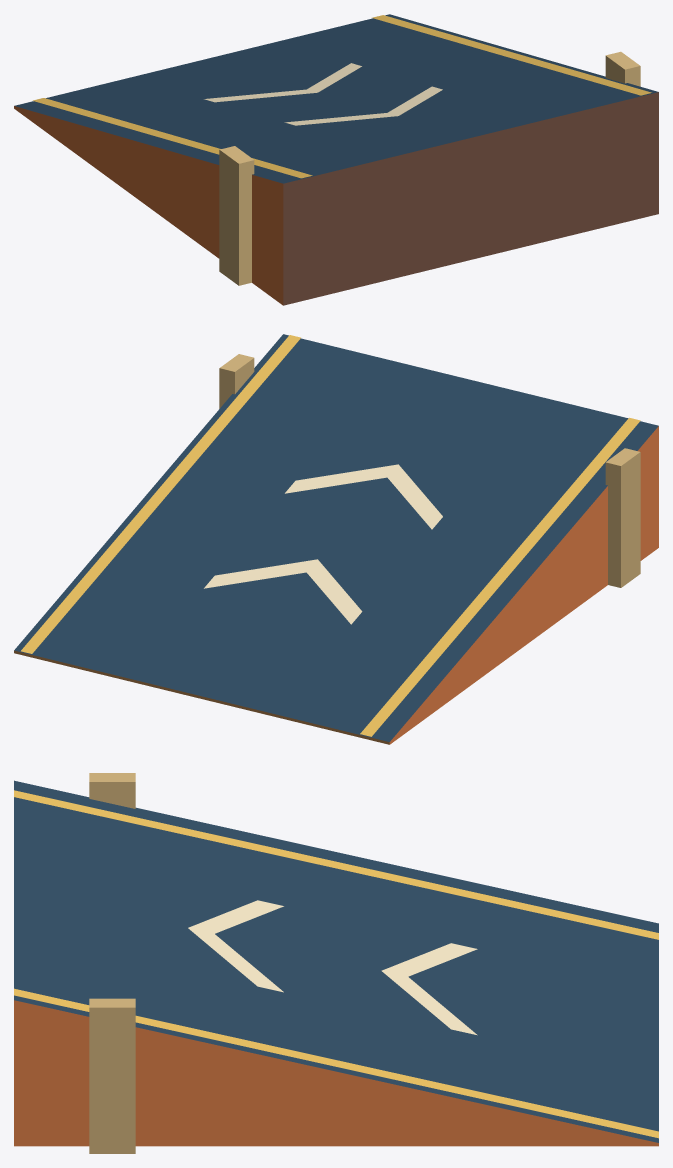
Rendered from short-ramp.glb.
The picture shows the model from 3 angles, top to bottom: view 1: azimuth 30°, elevation 25°; view 2: azimuth 150°, elevation 25°; view 3: azimuth 270°, elevation 25°; orthographic projection. The views are drawn at different scales.
Visible parts, largest first — view 1: short-ramp; view 2: short-ramp; view 3: short-ramp.
Part boxes in pixels (left/top/right/bottom): short-ramp: left=14, top=14, right=658, bottom=305; short-ramp: left=14, top=334, right=658, bottom=744; short-ramp: left=14, top=773, right=658, bottom=1153.
Bounding box in the file's own units: 3.1 × 0.906 × 3.6.
Materials: 1 (1 with a texture image).
